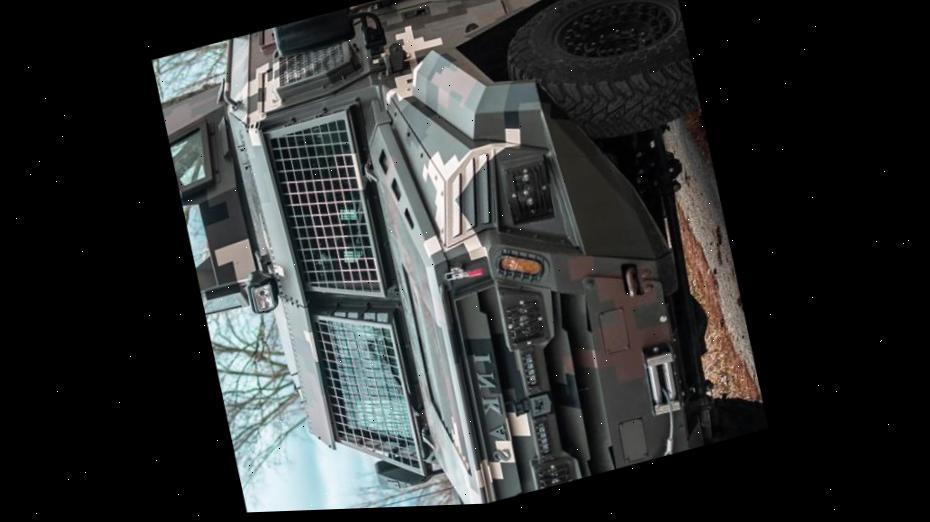armored_car: (140, 0, 778, 516)
